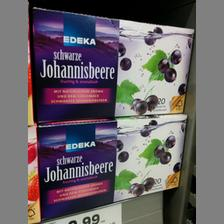Tee: (29, 7, 194, 121), (36, 114, 186, 218)
